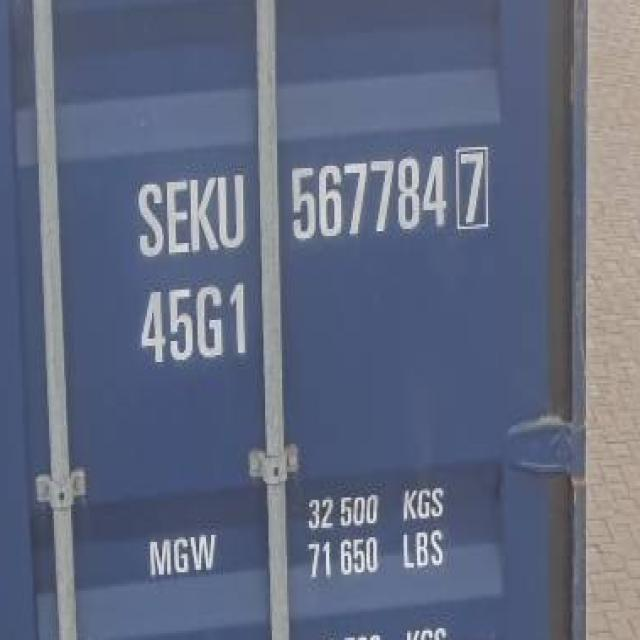dv: (452, 139, 494, 237)
owner: (131, 170, 252, 260)
serial: (285, 155, 447, 239)
size: (132, 278, 258, 374)
